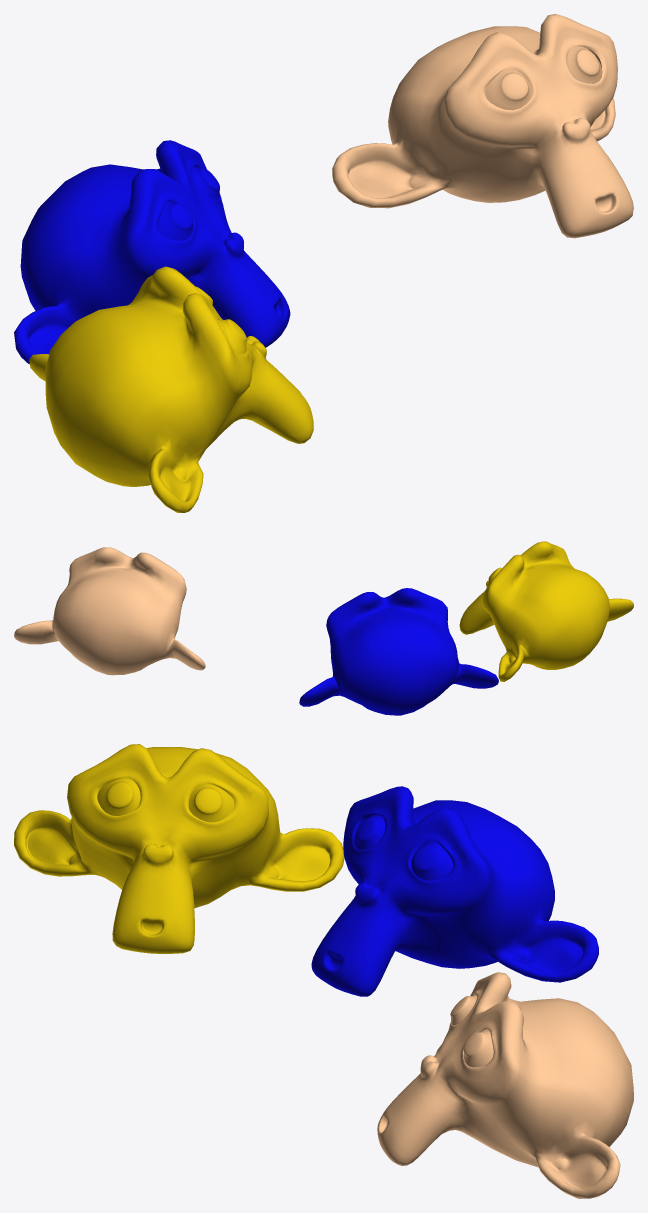
3 views of the same model, one above another, from view 1: azimuth 30°, elevation 25°; view 2: azimuth 150°, elevation 25°; view 3: azimuth 270°, elevation 25° (orthographic). The views are drawn at different scales.
Visible parts, largest first — view 1: Suzanne.001, Suzanne, Suzanne.002; view 2: Suzanne.002, Suzanne.001, Suzanne; view 3: Suzanne, Suzanne.002, Suzanne.001.
Part boxes in pixels (x1,y1,x2,y2): Suzanne.001: (332, 14, 633, 238); Suzanne: (29, 266, 313, 512); Suzanne.002: (14, 140, 290, 364); Suzanne.002: (299, 588, 498, 715); Suzanne.001: (14, 547, 205, 675); Suzanne: (459, 541, 633, 681); Suzanne: (14, 744, 344, 953); Suzanne.002: (311, 786, 598, 996); Suzanne.001: (377, 972, 633, 1198).
Size of what is drawn, in the model's own units: 6.76 by 1.57 by 4.93.
